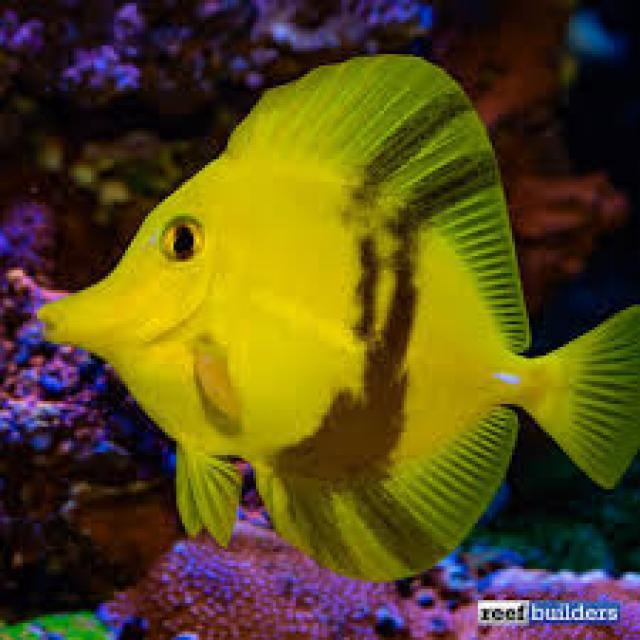YellowTang: (23, 37, 640, 589)
